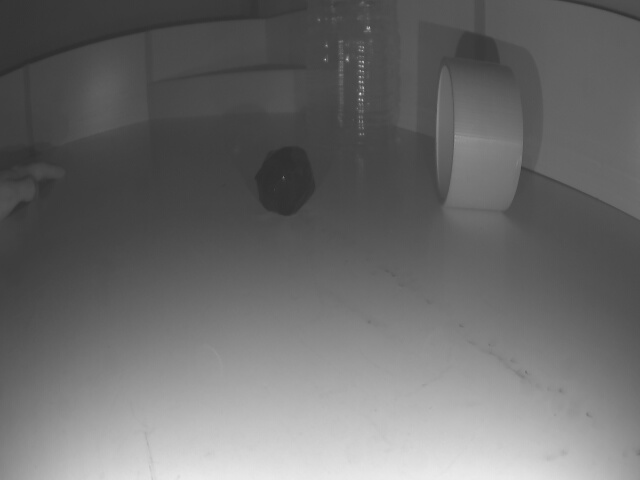Dead: (256, 147, 310, 214)
Point: (149, 69, 308, 119)
